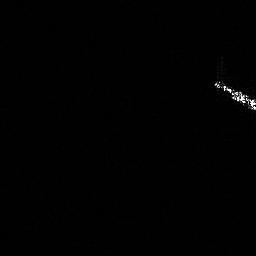ship: (212, 77, 256, 113)
